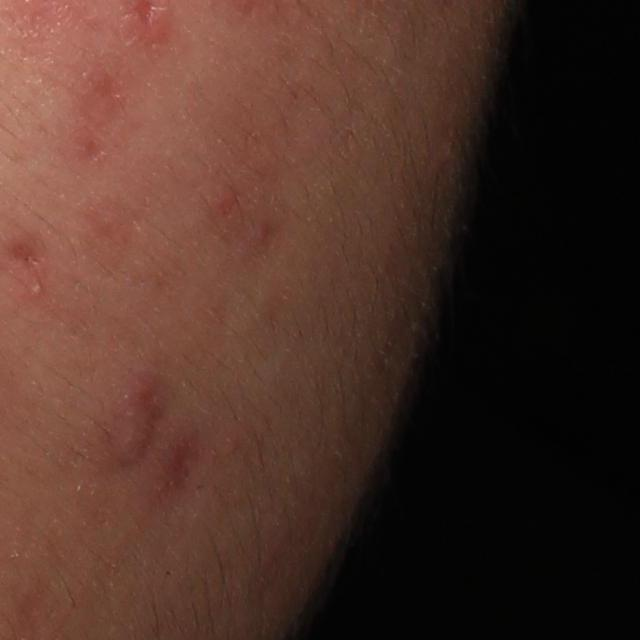papule: (103, 398, 163, 471)
